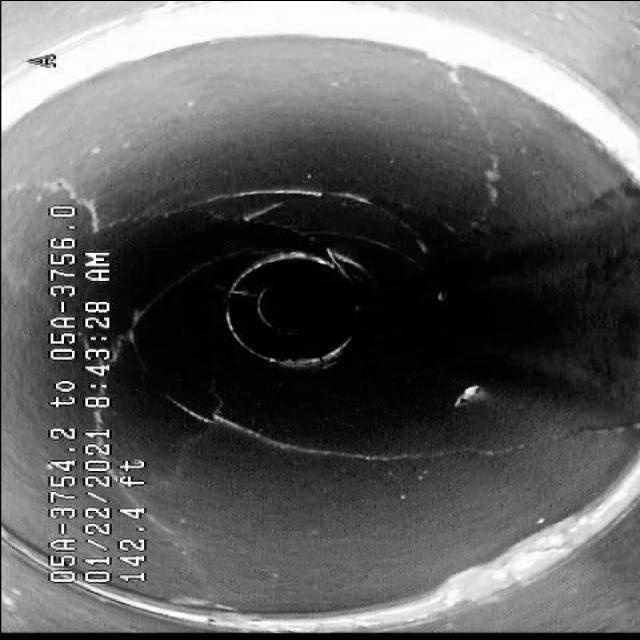Fracture: (217, 408, 595, 474)
